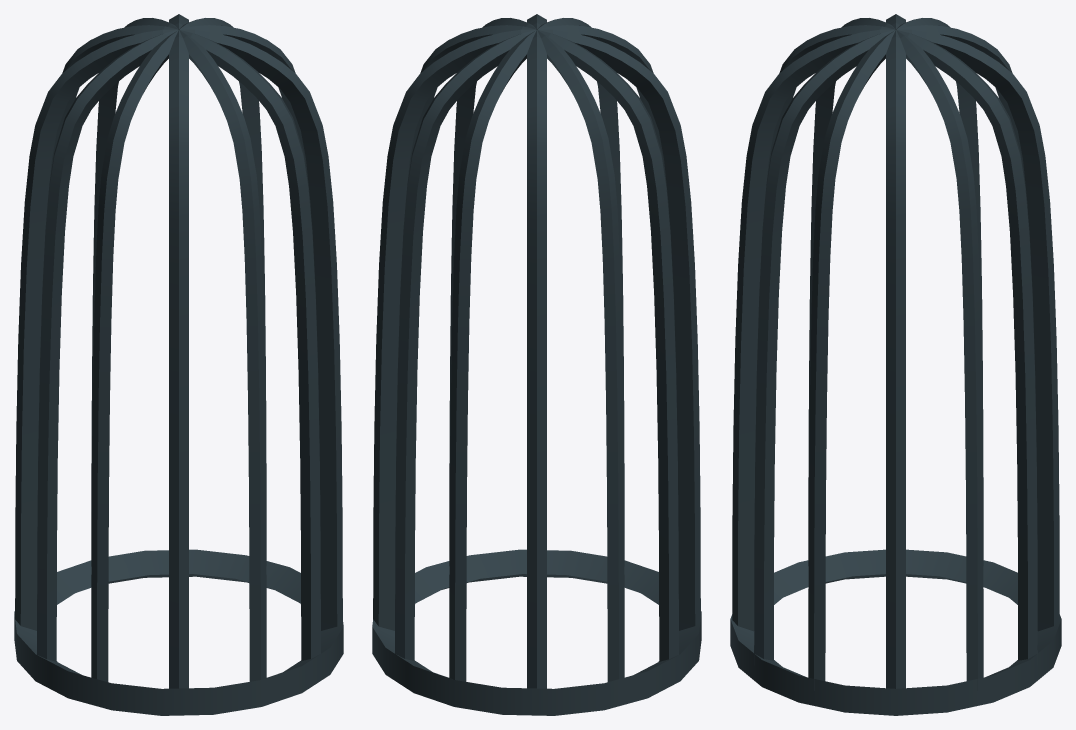
Rendered from long_sat.fbx.
3 views of the same model, side by side, from view 1: azimuth 30°, elevation 25°; view 2: azimuth 150°, elevation 25°; view 3: azimuth 270°, elevation 25° (orthographic).
Visible parts, largest first — view 1: long_sat; view 2: long_sat; view 3: long_sat.
Boxes of the visible parts, x1,y1,x2,y2 form: long_sat: (14,14,343,715); long_sat: (372,14,701,715); long_sat: (730,14,1061,715).
Size of the model in its own units: 139 by 286 by 139.
